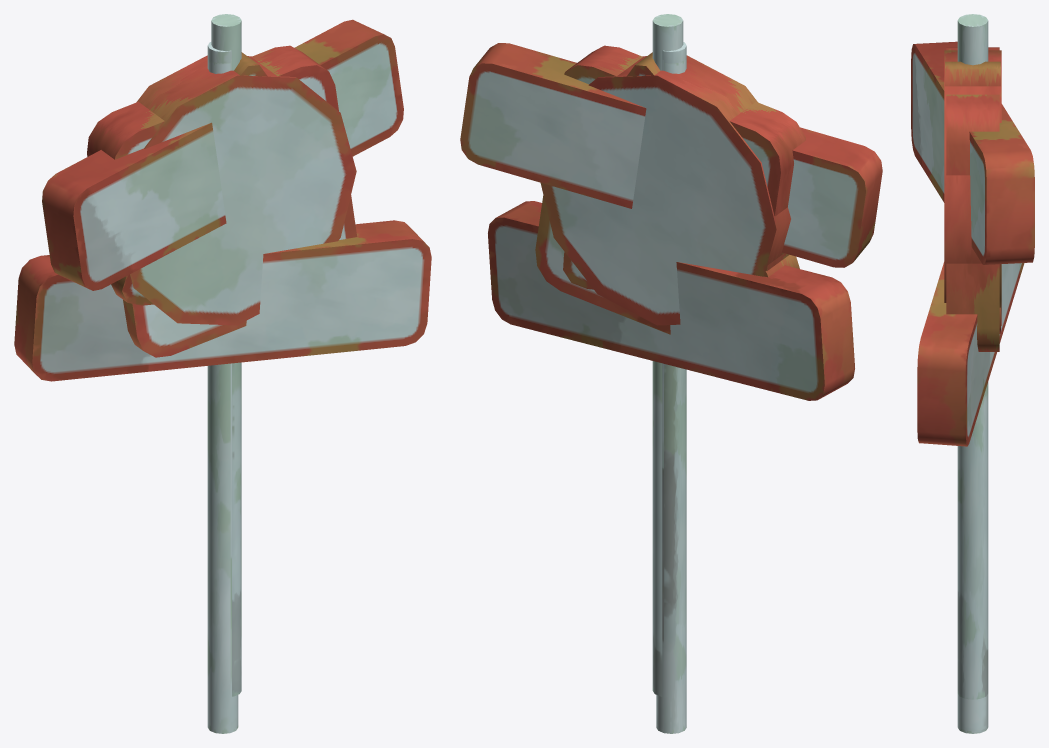
The model's file is Panneaux.fbx.
3 renders of one model, left to right at view 1: azimuth 30°, elevation 25°; view 2: azimuth 150°, elevation 25°; view 3: azimuth 270°, elevation 25°, orthographic.
Parts seen in each view (by area): view 1: Panneau 1, Panneau 2, Panneau 4, Panneau 3; view 2: Panneau 1, Panneau 2, Panneau 4, Panneau 3; view 3: Panneau 1, Panneau 3, Panneau 4, Panneau 2.
Part boxes in pixels (x1,y1,x2,y2): Panneau 1: [14, 19, 431, 730]; Panneau 2: [130, 42, 356, 325]; Panneau 4: [87, 45, 357, 733]; Panneau 3: [111, 14, 267, 696]; Panneau 1: [460, 43, 882, 730]; Panneau 2: [540, 42, 790, 325]; Panneau 4: [535, 45, 805, 733]; Panneau 3: [563, 14, 799, 696]; Panneau 1: [911, 41, 1034, 731]; Panneau 3: [945, 14, 1000, 699]; Panneau 4: [946, 47, 999, 733]; Panneau 2: [944, 50, 1001, 325].
Bounding box in the file's own units: 391 × 702 × 111.
